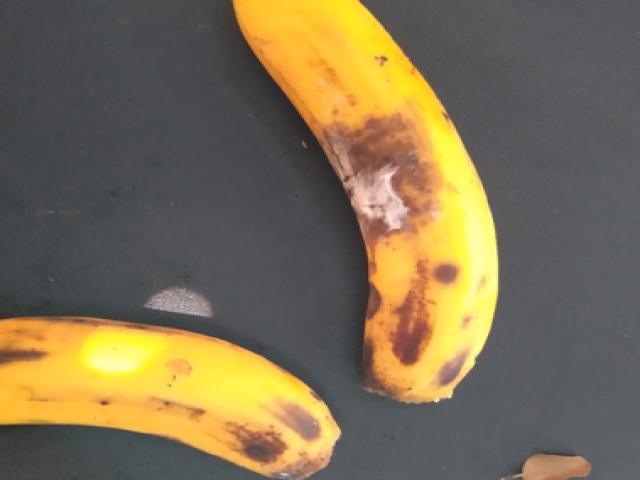overripe: (221, 0, 518, 426), (0, 303, 347, 479)
